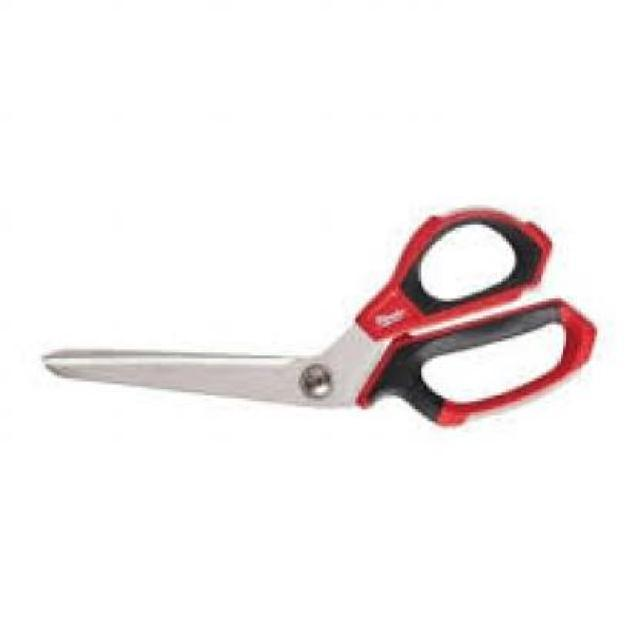scissors: (43, 204, 603, 436)
